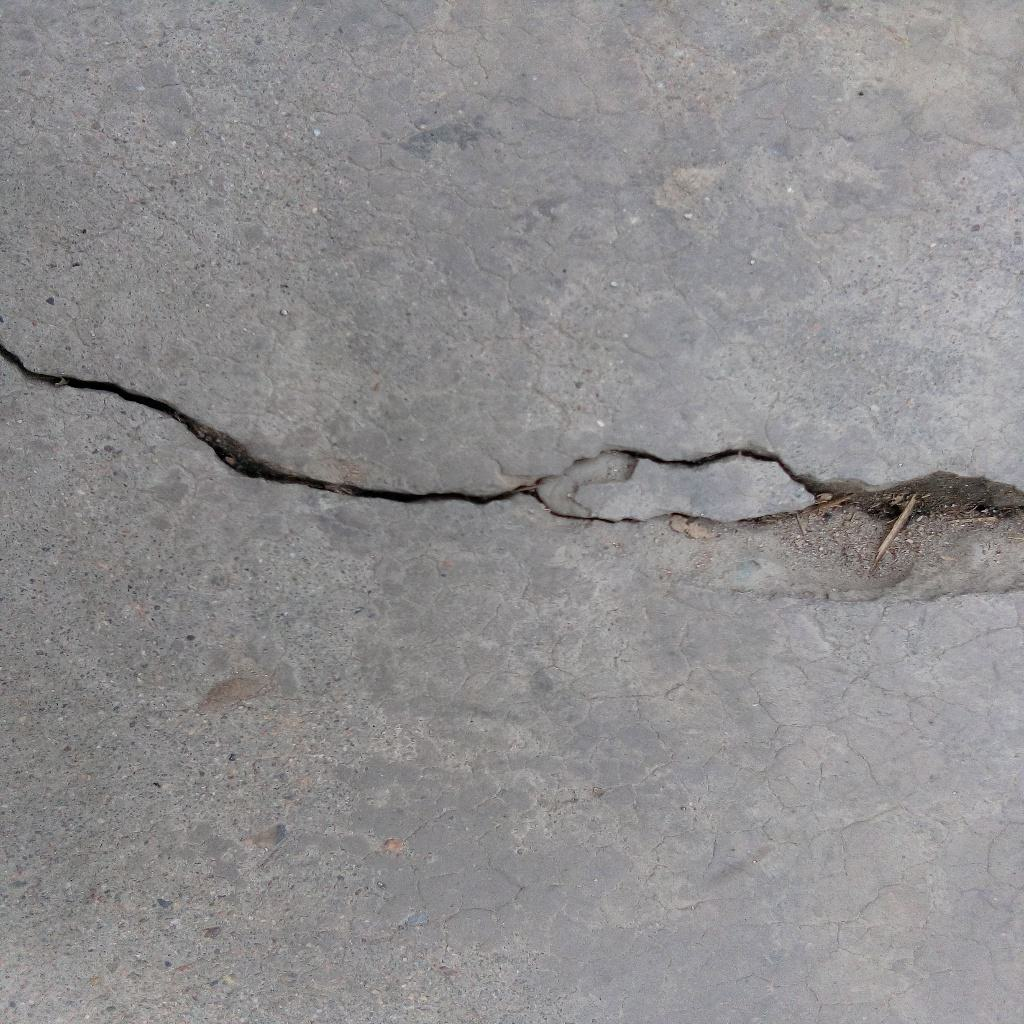Crack: (1, 342, 530, 509)
Spalling: (530, 445, 1024, 607)
